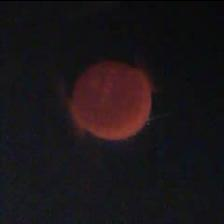infertile: (68, 57, 154, 142)
